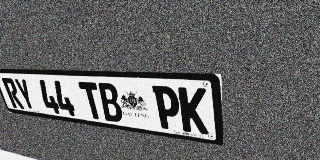4: (51, 80, 77, 116), (36, 79, 61, 114)
B: (96, 83, 124, 123)
K: (178, 87, 209, 135)
P: (152, 85, 182, 131)
R: (1, 78, 25, 109)
T: (78, 82, 105, 120)
Y: (13, 78, 37, 111)
